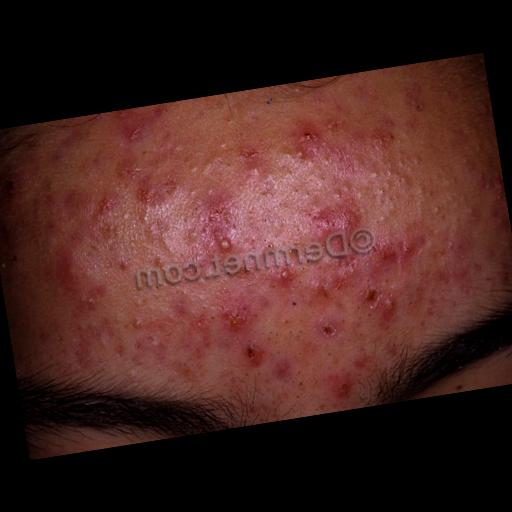Skin_Lesion: (186, 192, 254, 275), (308, 192, 376, 242), (378, 232, 428, 274), (366, 282, 401, 334), (161, 284, 194, 324), (0, 166, 30, 209), (290, 123, 325, 158), (220, 300, 253, 336), (328, 258, 360, 290), (328, 370, 356, 402), (34, 324, 68, 350), (402, 86, 430, 116), (314, 312, 340, 344), (239, 338, 264, 370), (271, 263, 297, 293), (370, 121, 398, 148), (271, 357, 294, 386), (475, 172, 498, 194), (123, 122, 146, 144), (77, 294, 98, 316), (474, 100, 494, 122), (113, 254, 132, 274), (354, 348, 372, 366), (216, 235, 233, 252), (128, 314, 144, 332), (114, 106, 138, 118), (42, 219, 58, 233), (452, 382, 468, 393)
